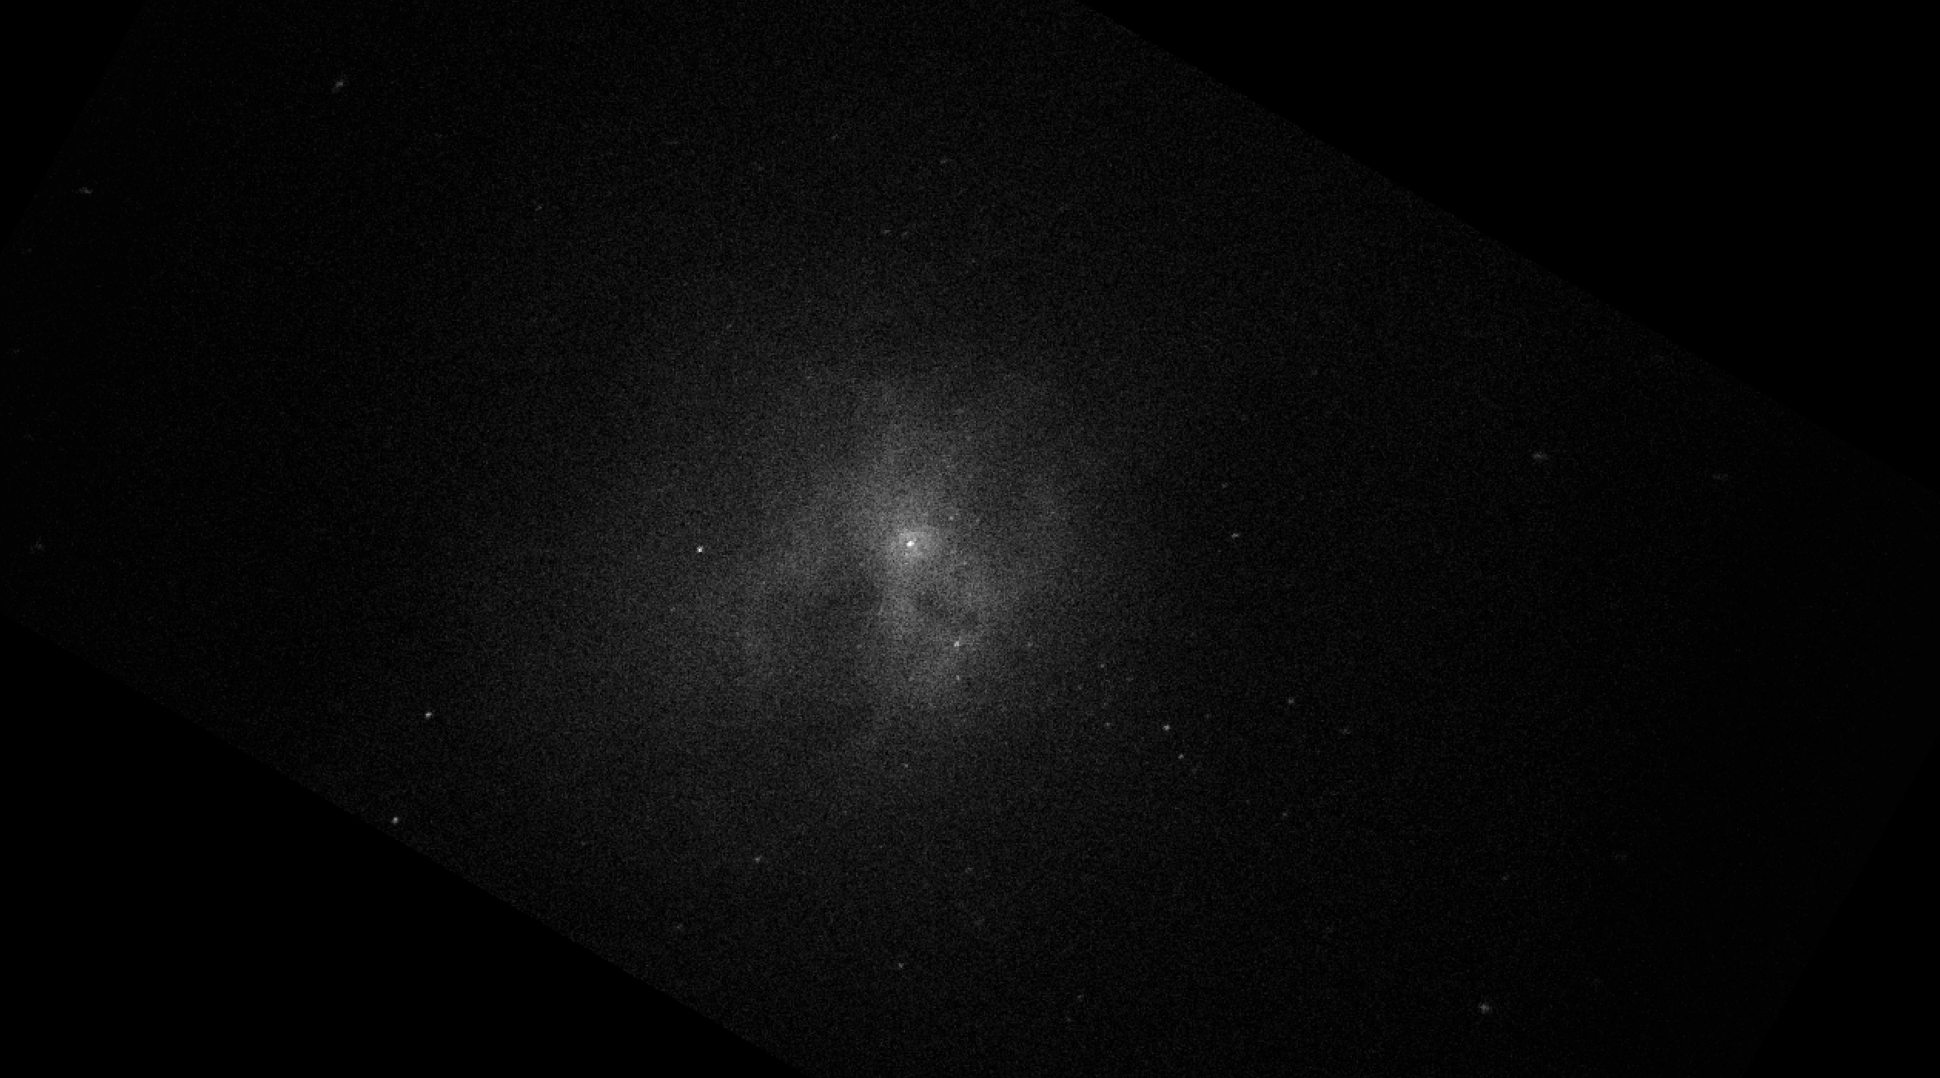Cavity: (740, 552, 892, 694), (764, 372, 900, 481), (942, 441, 1050, 572), (905, 584, 983, 637), (888, 435, 935, 495), (917, 543, 929, 556), (913, 532, 924, 543)
Galaxy: (725, 354, 1111, 743)
